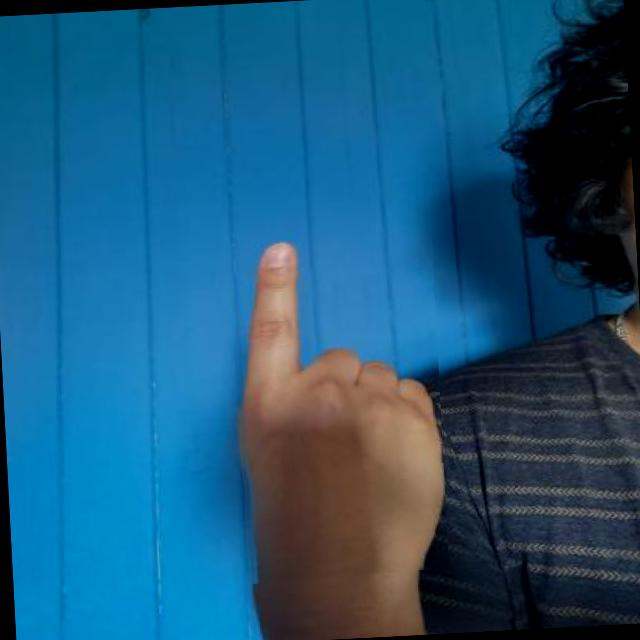T: (228, 232, 450, 584)
